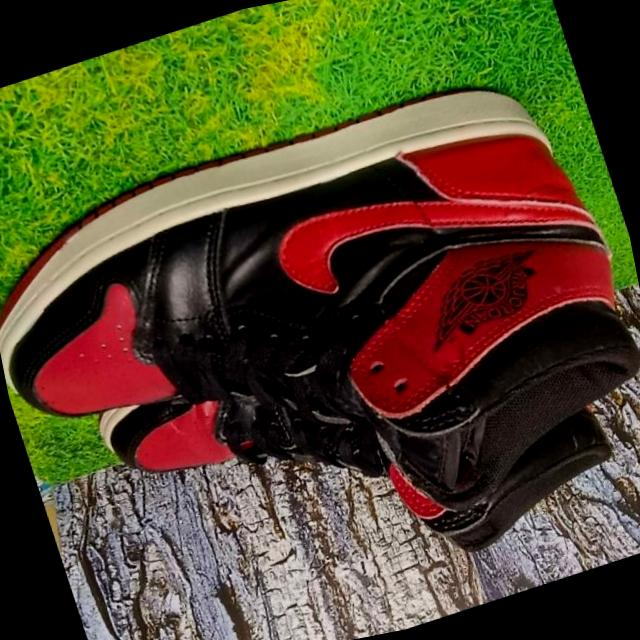nike_fake_jordan: (0, 36, 640, 632), (81, 257, 640, 640)
